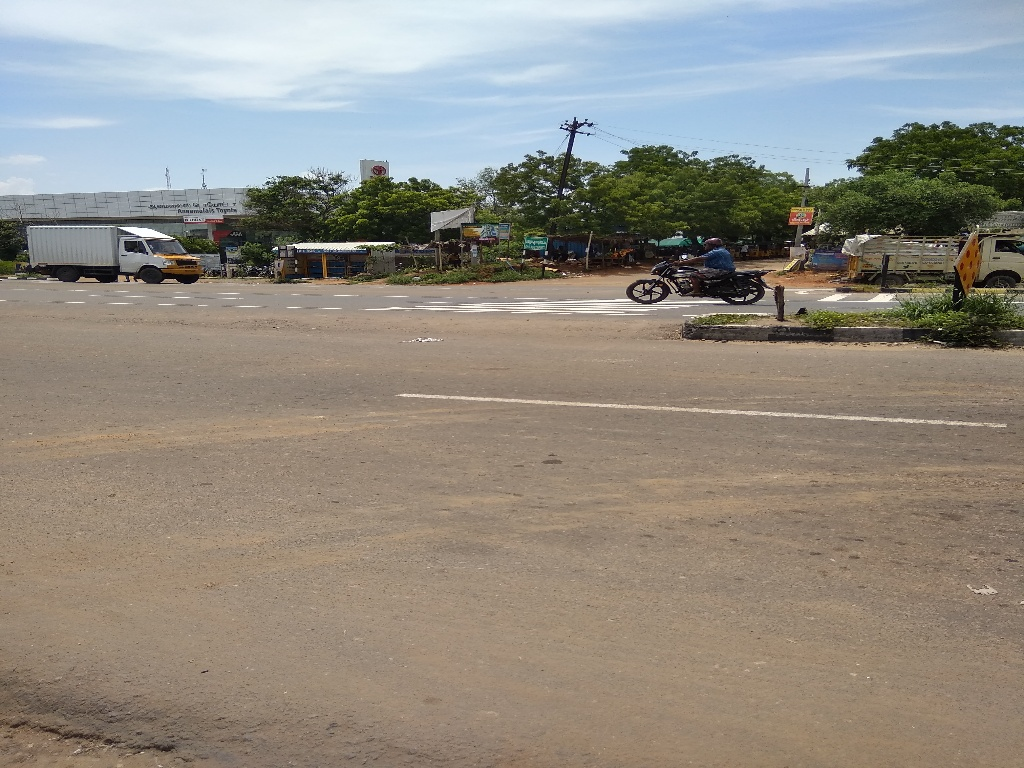biker: (617, 199, 775, 313)
helmet: (693, 227, 730, 260)
